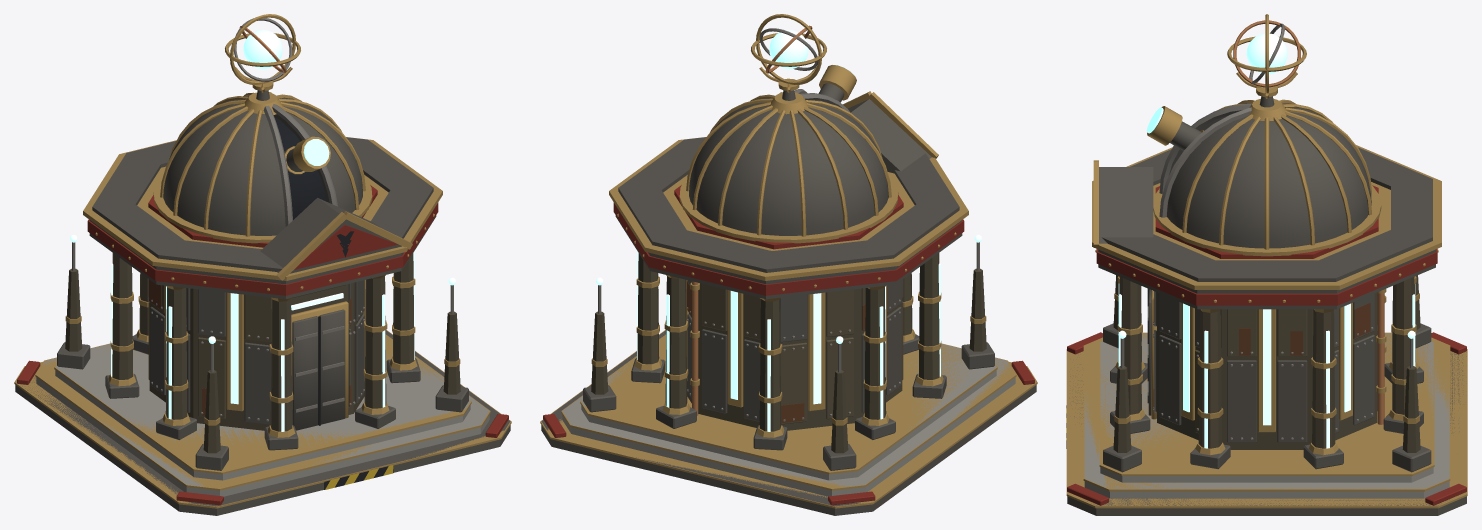
File: temple_of_science.glb
The picture shows the model from 3 angles, left to right: view 1: azimuth 30°, elevation 25°; view 2: azimuth 150°, elevation 25°; view 3: azimuth 270°, elevation 25°; orthographic projection. The views are drawn at different scales.
Visible parts, largest first — view 1: plinth, entablature, dome, columns, drum, door, pylon_01, pylon_02, pylon_04, telescope, RingA, Orb (+1 smaller); view 2: plinth, entablature, dome, drum, columns, pylon_03, pylon_04, pylon_01, RingA, telescope, Orb, RingB; view 3: plinth, dome, entablature, drum, columns, pylon_02, pylon_03, telescope, Orb, RingB, RingA, door (+3 smaller).
Boxes of the visible parts, left/top/right/bottom form: plinth: left=14, top=329, right=511, bottom=515; entablature: left=83, top=137, right=442, bottom=299; dome: left=148, top=92, right=377, bottom=247; columns: left=105, top=250, right=420, bottom=450; drum: left=148, top=279, right=365, bottom=430; door: left=291, top=301, right=348, bottom=430; pylon_01: left=195, top=336, right=228, bottom=470; pylon_02: left=435, top=277, right=468, bottom=412; pylon_04: left=57, top=234, right=90, bottom=369; telescope: left=284, top=136, right=330, bottom=174; RingA: left=225, top=14, right=300, bottom=84; Orb: left=243, top=30, right=282, bottom=69; plinth: left=540, top=329, right=1037, bottom=515; entablature: left=609, top=91, right=968, bottom=299; dome: left=674, top=89, right=903, bottom=249; drum: left=686, top=279, right=903, bottom=430; columns: left=631, top=250, right=946, bottom=450; pylon_03: left=583, top=277, right=616, bottom=412; pylon_04: left=823, top=336, right=856, bottom=470; pylon_01: left=961, top=234, right=994, bottom=369; RingA: left=751, top=14, right=826, bottom=84; telescope: left=818, top=65, right=856, bottom=102; Orb: left=769, top=30, right=808, bottom=69; RingB: left=759, top=25, right=818, bottom=73; plinth: left=1066, top=332, right=1467, bottom=515; dome: left=1153, top=98, right=1381, bottom=258; entablature: left=1092, top=145, right=1441, bottom=309; drum: left=1152, top=289, right=1386, bottom=449; columns: left=1110, top=276, right=1423, bottom=469; pylon_02: left=1103, top=330, right=1141, bottom=472; pylon_03: left=1392, top=330, right=1431, bottom=472; telescope: left=1146, top=106, right=1203, bottom=150; Orb: left=1246, top=33, right=1287, bottom=74; RingB: left=1233, top=20, right=1300, bottom=87; RingA: left=1227, top=14, right=1306, bottom=93; door: left=1147, top=288, right=1156, bottom=419.
Bounding box in the file's own units: 5.82 × 6.63 × 5.83.
